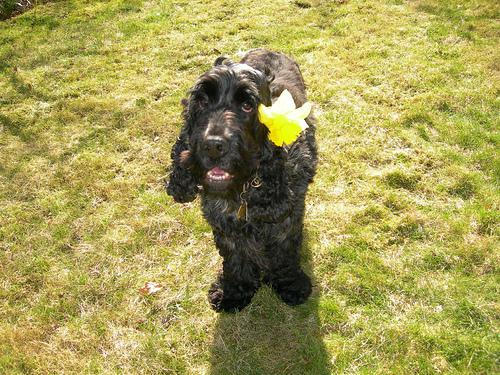dog-english_cocker_spaniel: (165, 64, 285, 202)
